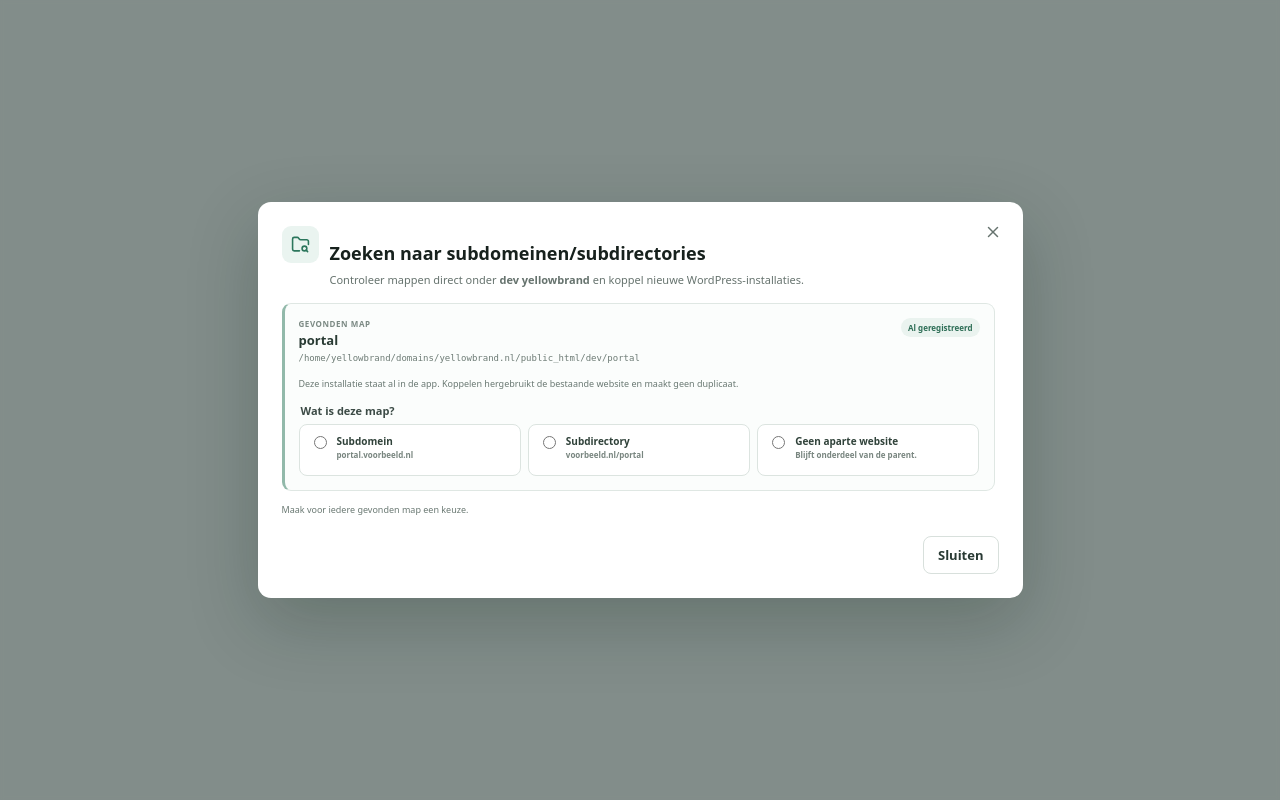
Scenario: NestedSiteDiscovery › reconnects a detached grandchild using its existing site ID
The width and height of the screenshot is (1280, 800).
Click the radio button labelled "Subdirectory voorbeeld.nl/portal" at [549, 442], box x1=543 y1=436 x2=556 y2=449
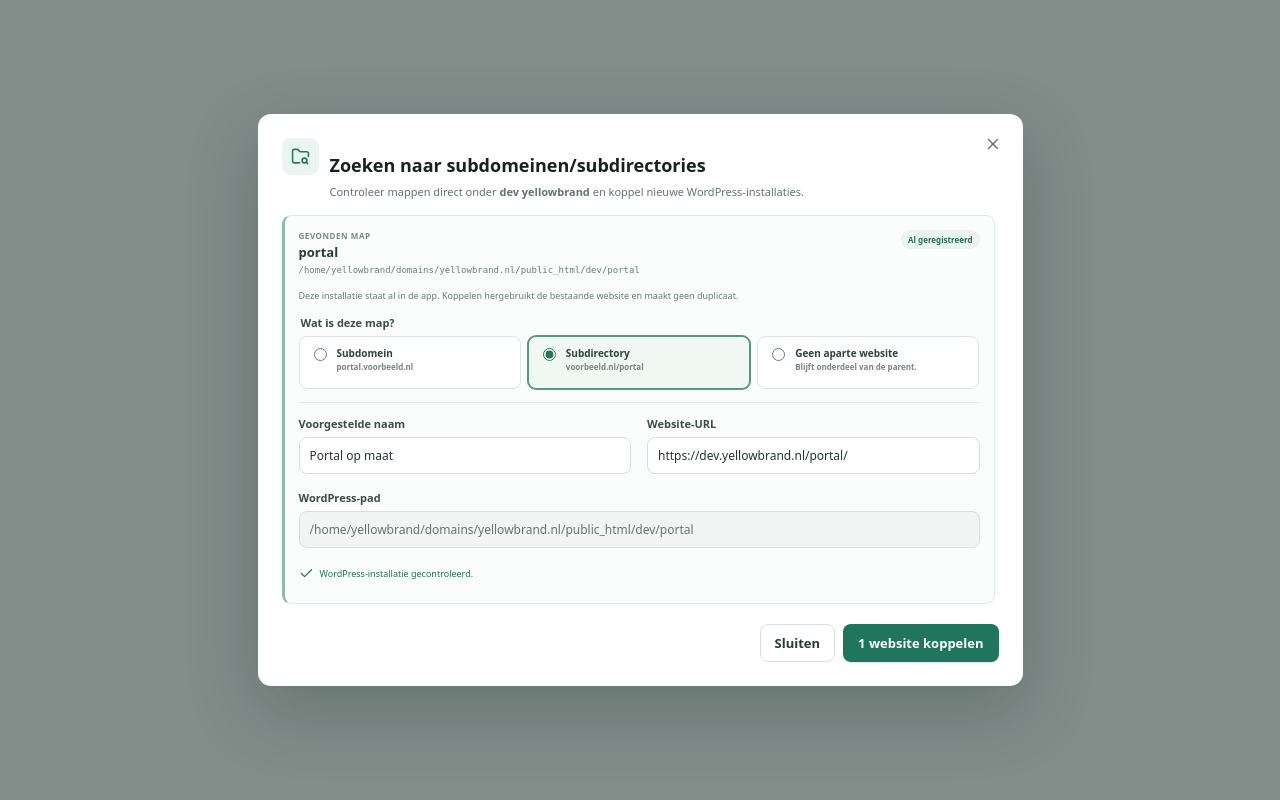
Result: the field labelled "Voorgestelde naam" holds "Portal op maat" at x1=298 y1=437 x2=631 y2=474
Click the button "1 website koppelen" at [921, 643], box x1=843 y1=624 x2=998 y2=662
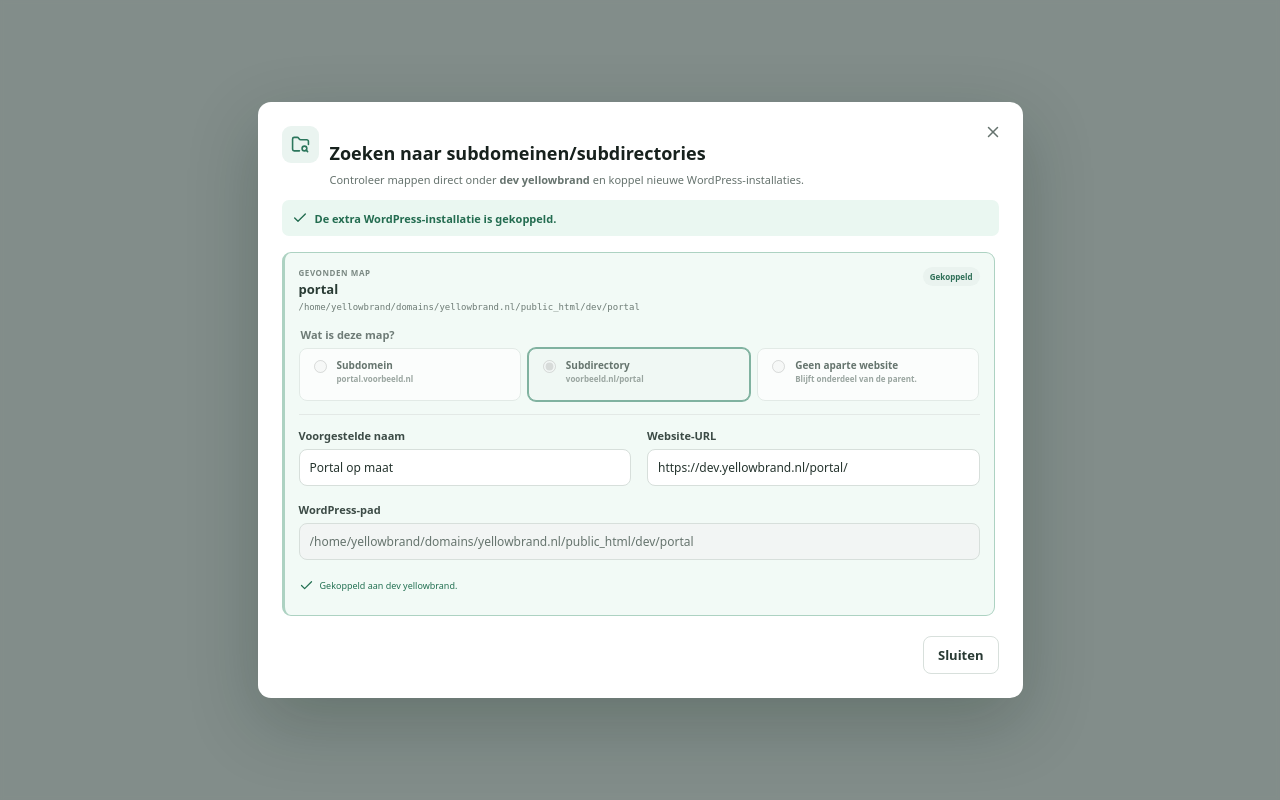
Result: the text "gekoppeld" is shown at x1=314 y1=211 x2=556 y2=226
